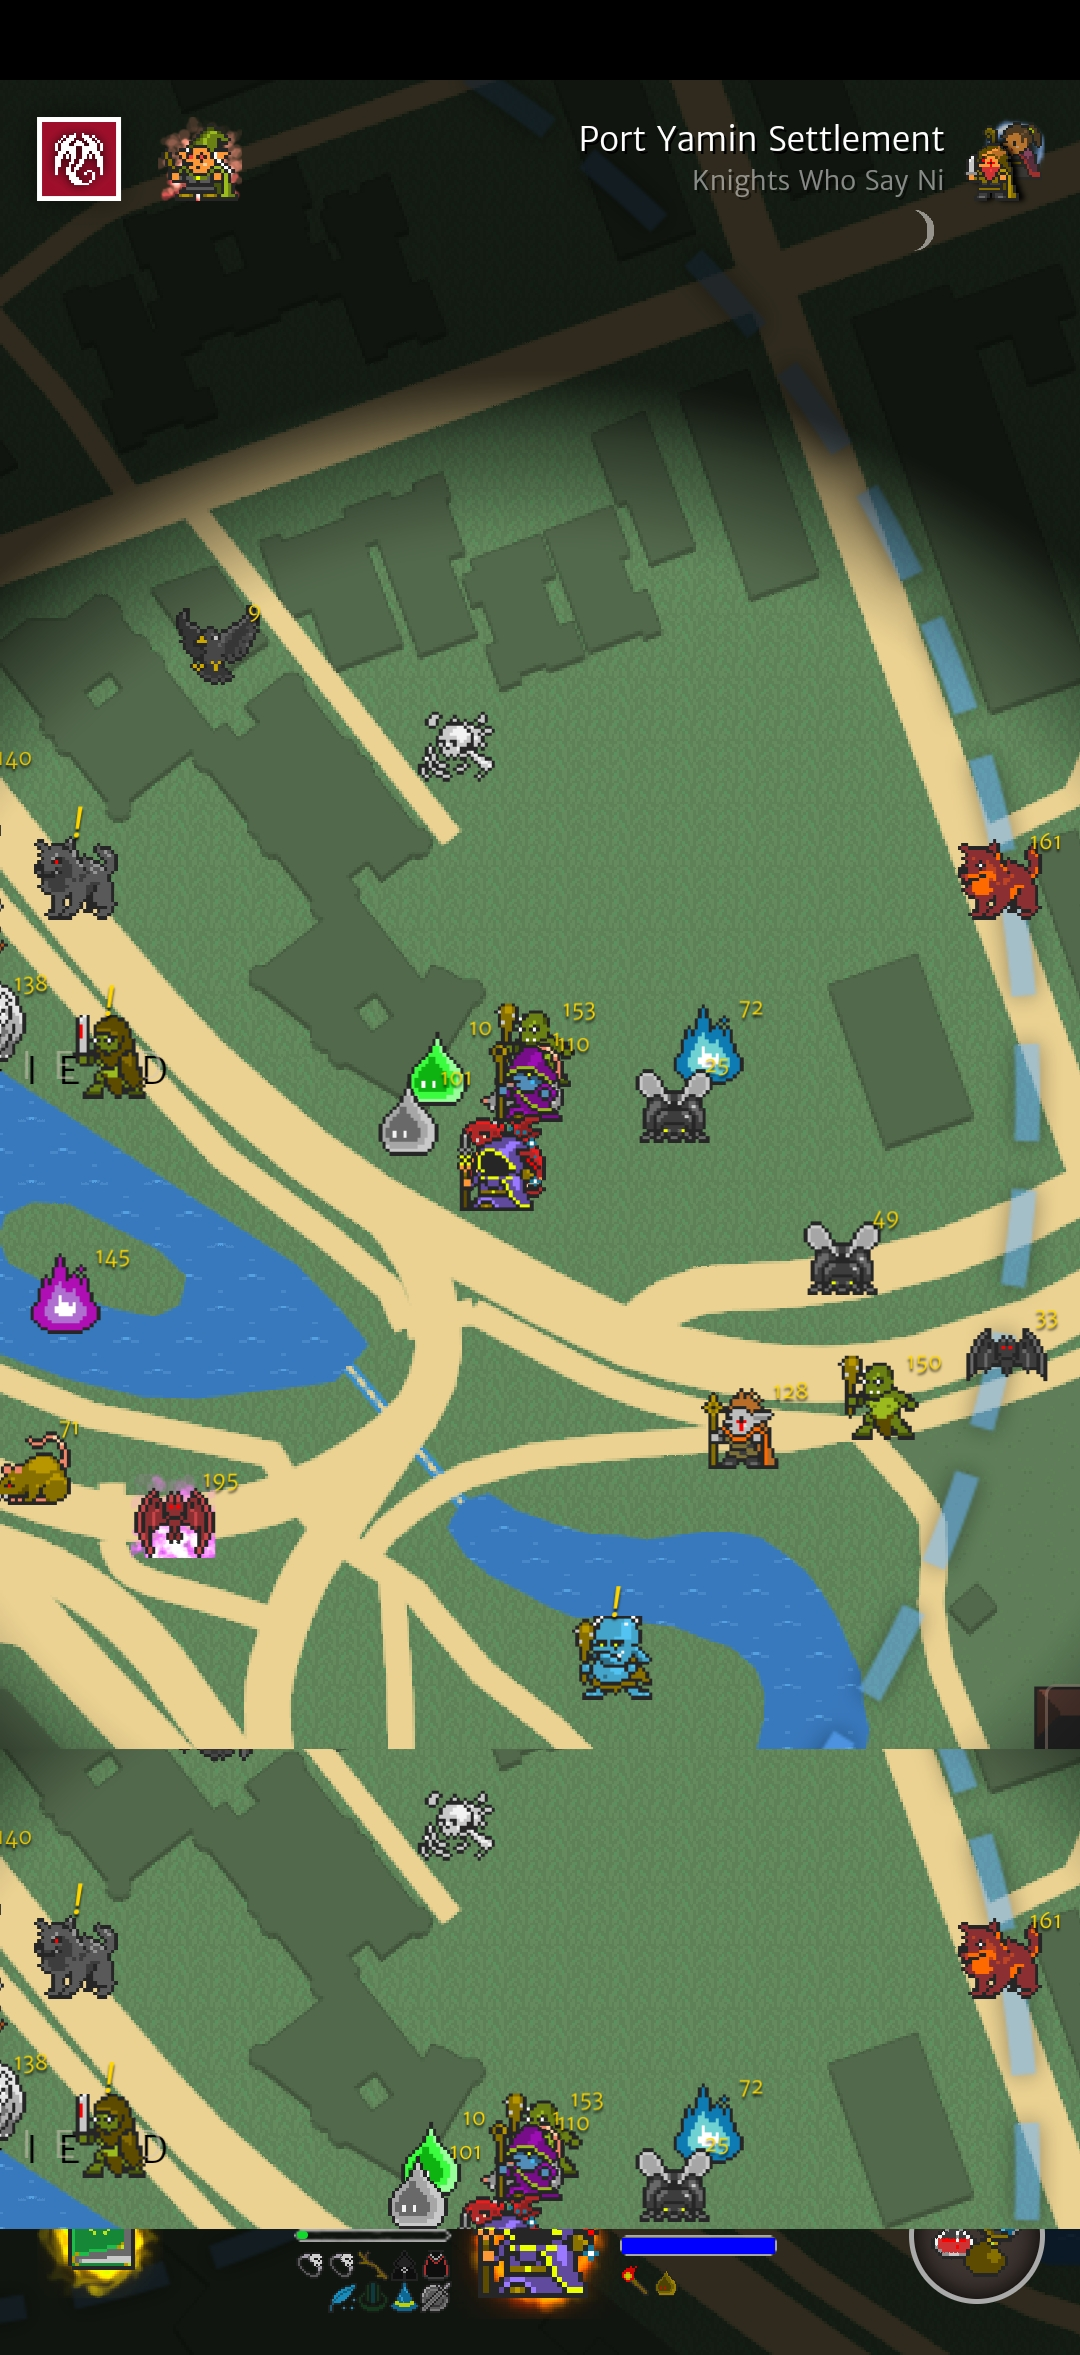monster: (63, 992, 184, 1113), (29, 823, 140, 934), (32, 1903, 138, 2009), (946, 834, 1050, 938), (570, 1613, 673, 1716), (832, 1351, 936, 1455), (129, 1475, 232, 1578), (798, 1216, 898, 1316), (953, 1909, 1050, 2006), (26, 1251, 116, 1341), (960, 1313, 1046, 1399), (167, 609, 250, 692), (708, 1389, 788, 1469), (636, 1065, 715, 1144)
player: (457, 1141, 529, 1213)
